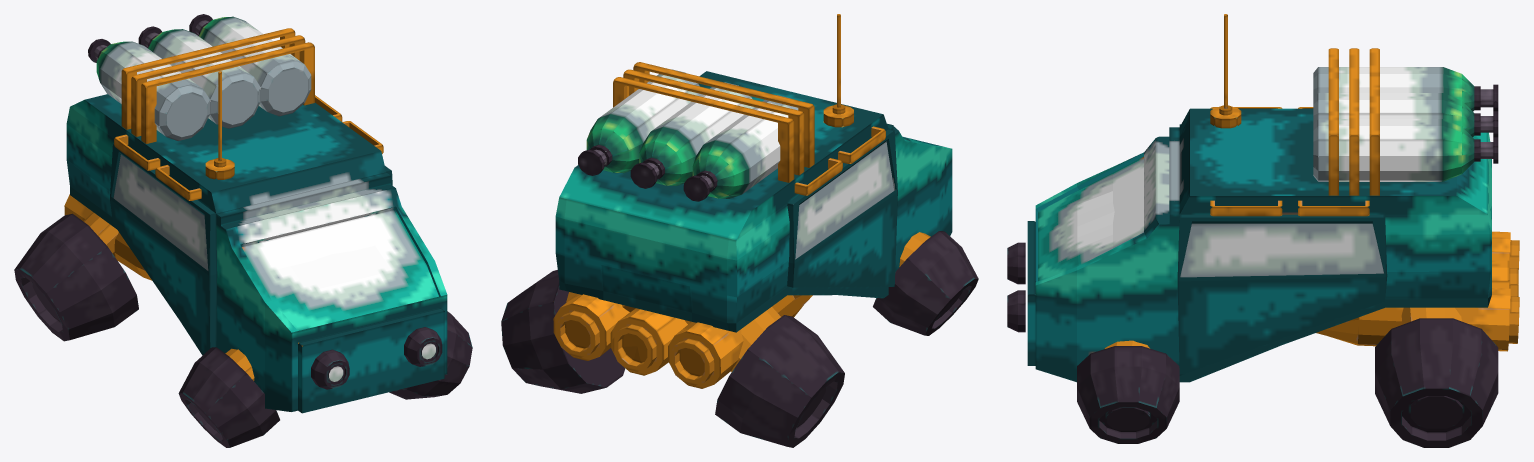
File: car.fbx
3 views of the same model, side by side, from view 1: azimuth 30°, elevation 25°; view 2: azimuth 150°, elevation 25°; view 3: azimuth 270°, elevation 25° (orthographic). The views are drawn at different scales.
Parts seen in each view (by area): view 1: car; view 2: car; view 3: car.
Boxes of the visible parts, box(x1,y1,x2,y2) form: car: box(14, 14, 472, 447); car: box(501, 14, 978, 447); car: box(1007, 14, 1519, 447).
Bounding box in the file's own units: 7.09 × 7.24 × 9.74.
Materials: 1 (1 with a texture image).
